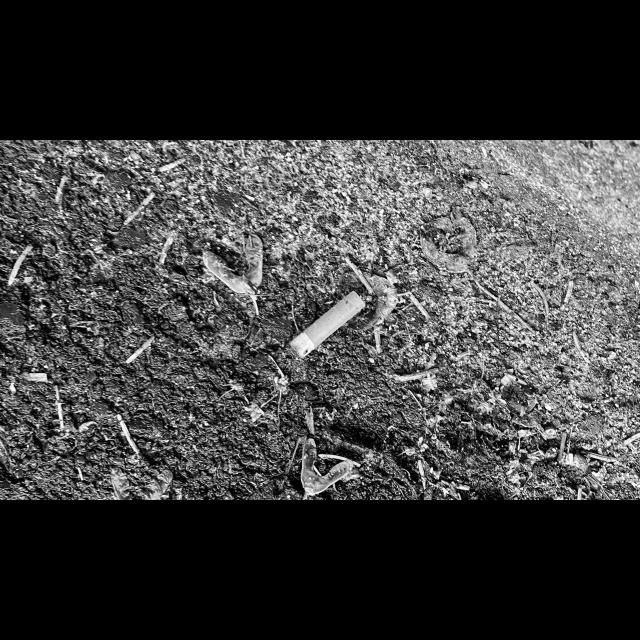cigarette: (287, 288, 367, 360)
